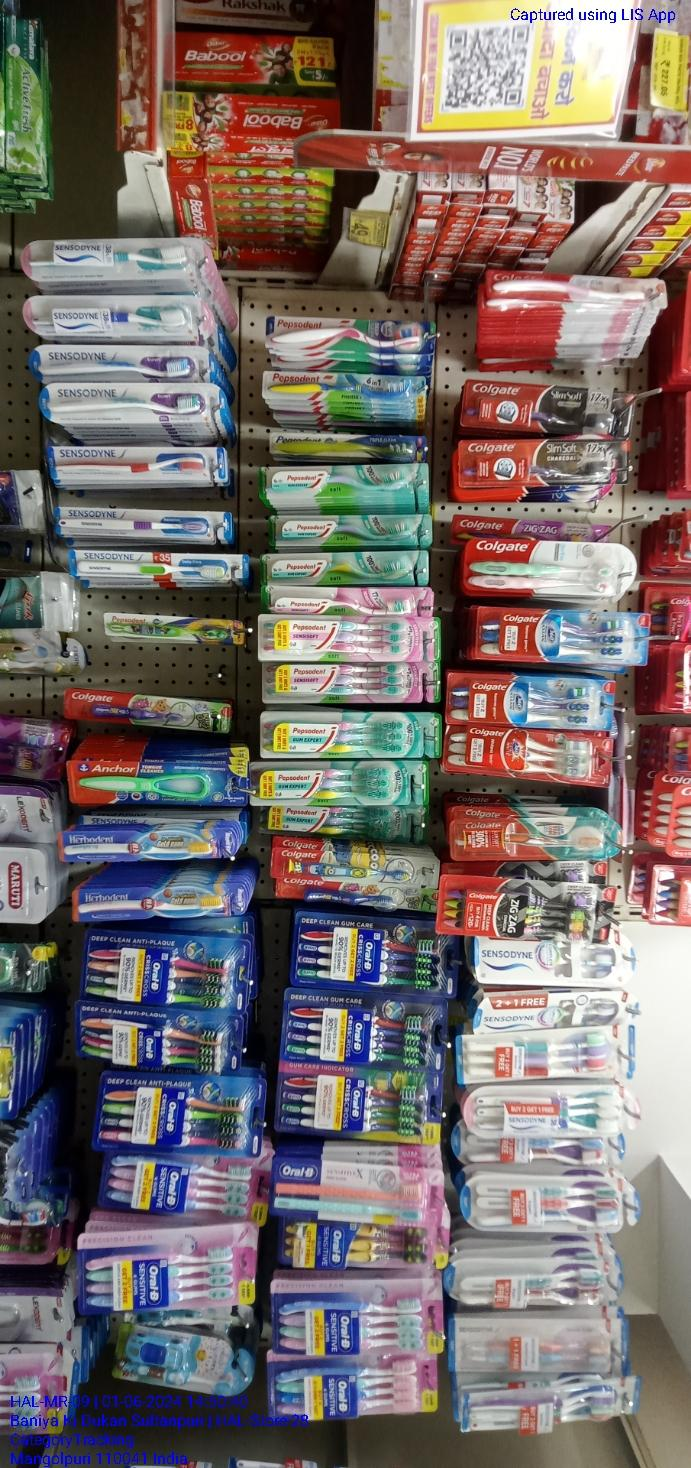10: (582, 927, 620, 1299), (603, 531, 636, 894), (639, 534, 669, 903), (545, 894, 574, 1264)
11: (335, 532, 357, 918), (358, 559, 379, 936)
12: (312, 532, 331, 913), (292, 532, 310, 923)
13: (276, 548, 289, 910)
4: (442, 118, 464, 460), (466, 111, 483, 463)
5: (511, 105, 534, 482)
6: (552, 112, 580, 498), (590, 149, 614, 524)
7: (620, 130, 647, 519)
8: (485, 121, 510, 502)
liquid soap: (409, 157, 442, 543)
soap: (179, 122, 201, 489), (207, 127, 229, 493)
